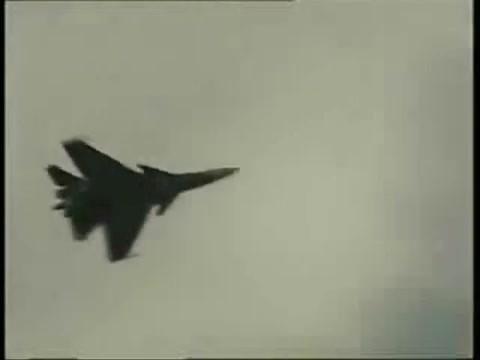aeroplane: (46, 140, 241, 264)
